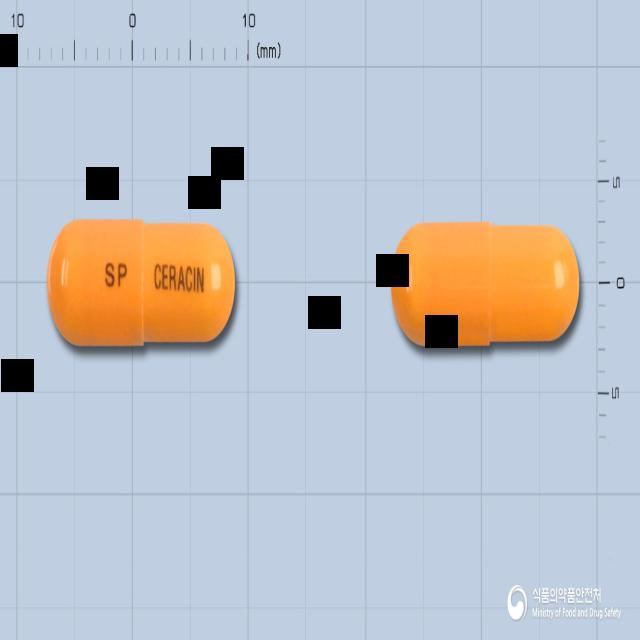Ceracin Cap: (389, 214, 586, 360), (43, 212, 241, 356)
